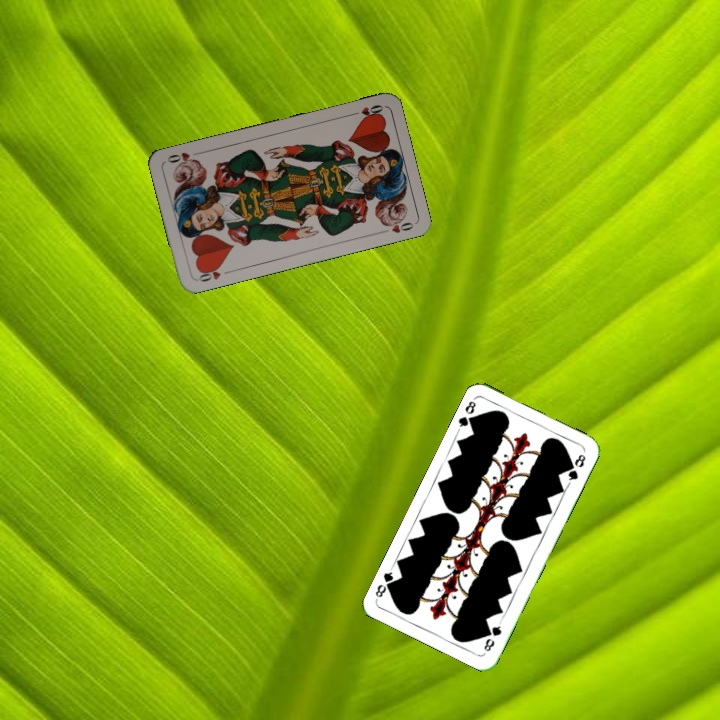G8: (454, 394, 479, 432), (480, 618, 504, 654)
HO: (193, 262, 233, 284), (345, 100, 386, 121)
